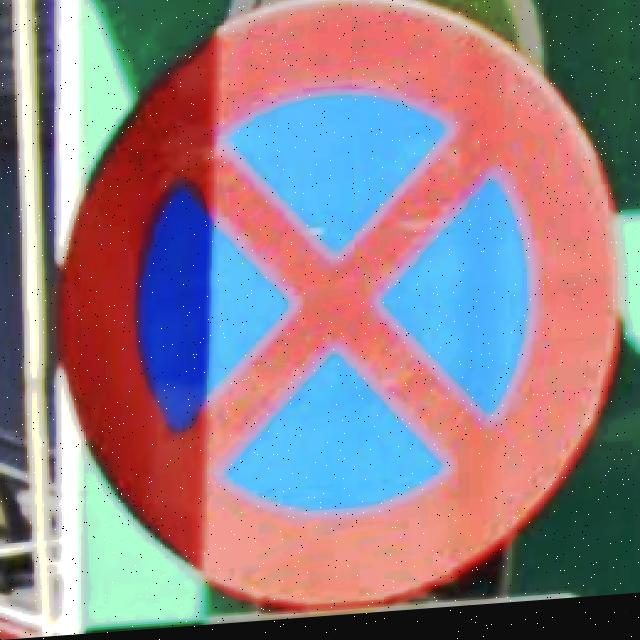nopark: (52, 0, 625, 617)
